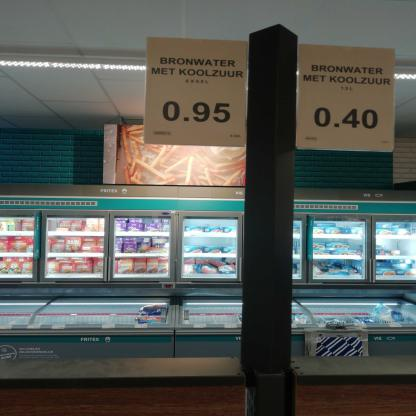prtg: (145, 38, 248, 147), (297, 45, 397, 152)
